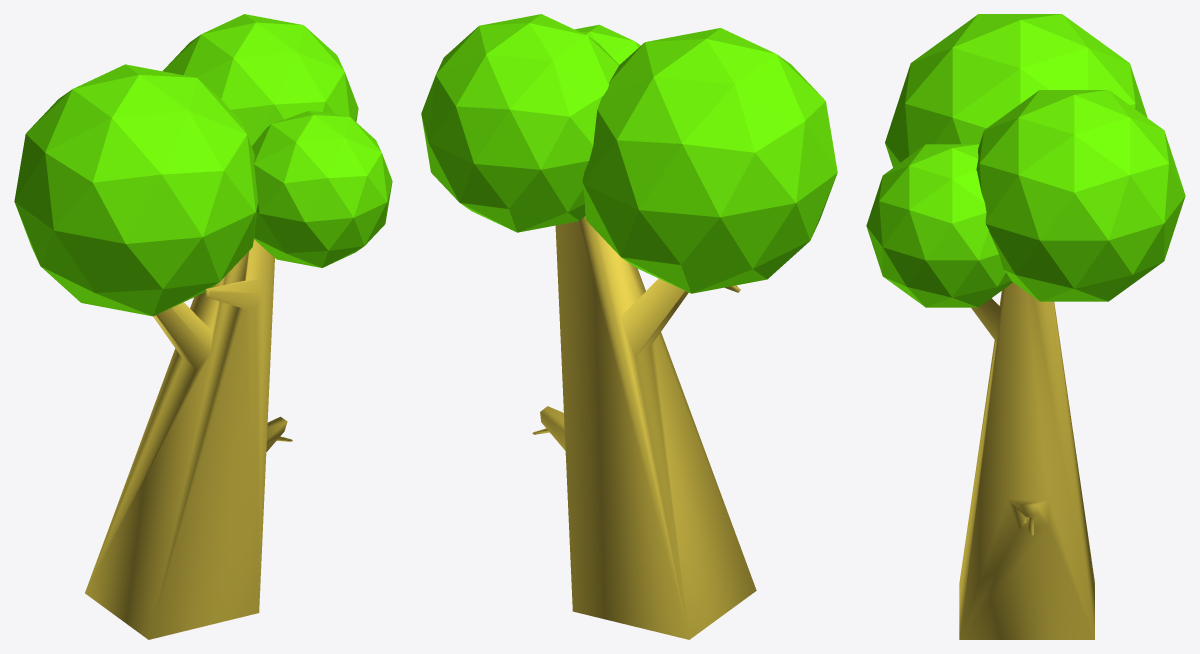
The model's file is treebetter.fbx.
3 renders of one model, left to right at view 1: azimuth 30°, elevation 25°; view 2: azimuth 150°, elevation 25°; view 3: azimuth 270°, elevation 25°, orthographic. The views are drawn at different scales.
Visible parts, largest first — view 1: tree; view 2: tree; view 3: tree.
Part boxes in pixels (box(x1,y1,x2,y2)): tree: box(14, 14, 392, 639); tree: box(421, 14, 837, 639); tree: box(866, 14, 1185, 639).
Size of the model in its own units: 604 by 933 by 471.
